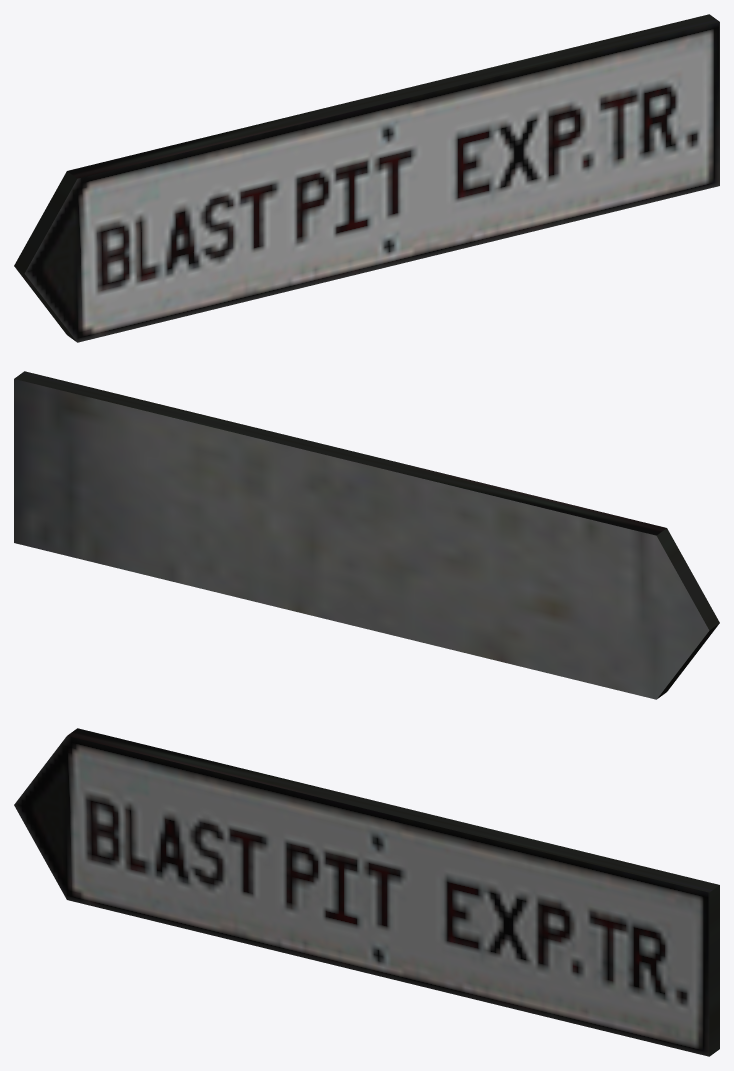
File: Training_Sign10.fbx
3 views of the same model, one above another, from view 1: azimuth 30°, elevation 25°; view 2: azimuth 150°, elevation 25°; view 3: azimuth 330°, elevation 25° (orthographic).
Parts seen in each view (by area): view 1: tabula; view 2: tabula; view 3: tabula.
Part boxes in pixels (bbox=[...]): tabula: bbox=[14, 14, 719, 342]; tabula: bbox=[14, 371, 719, 699]; tabula: bbox=[14, 728, 719, 1056].
Size of the model in its own units: 76.37 by 17.22 by 2.
